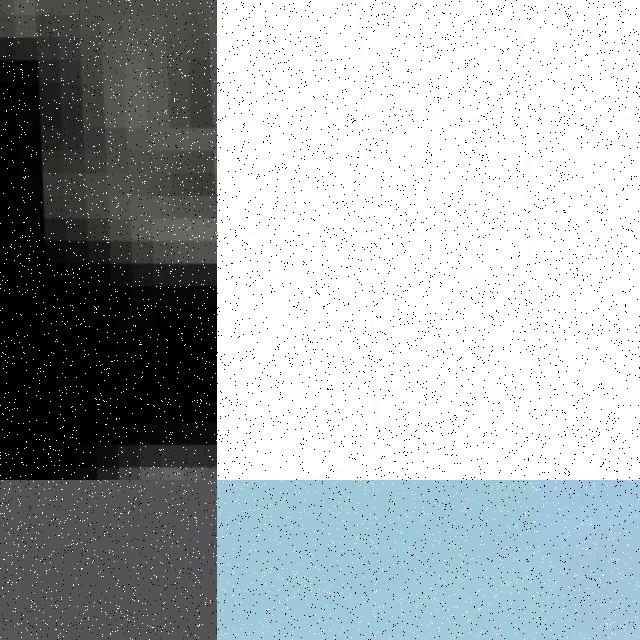drone: (217, 0, 640, 480), (0, 0, 217, 480)
